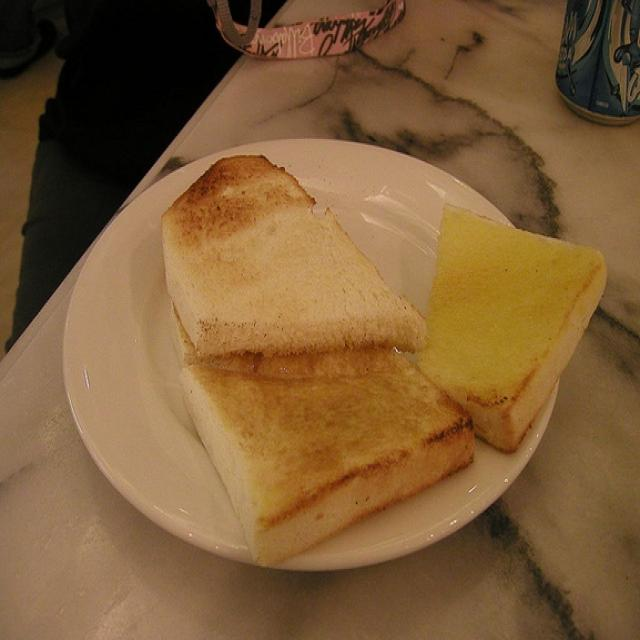面包点心: (111, 104, 591, 562)
